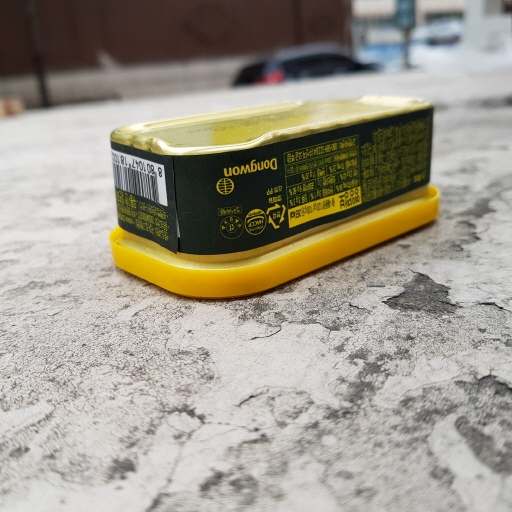Metal_2: (97, 87, 443, 300)
